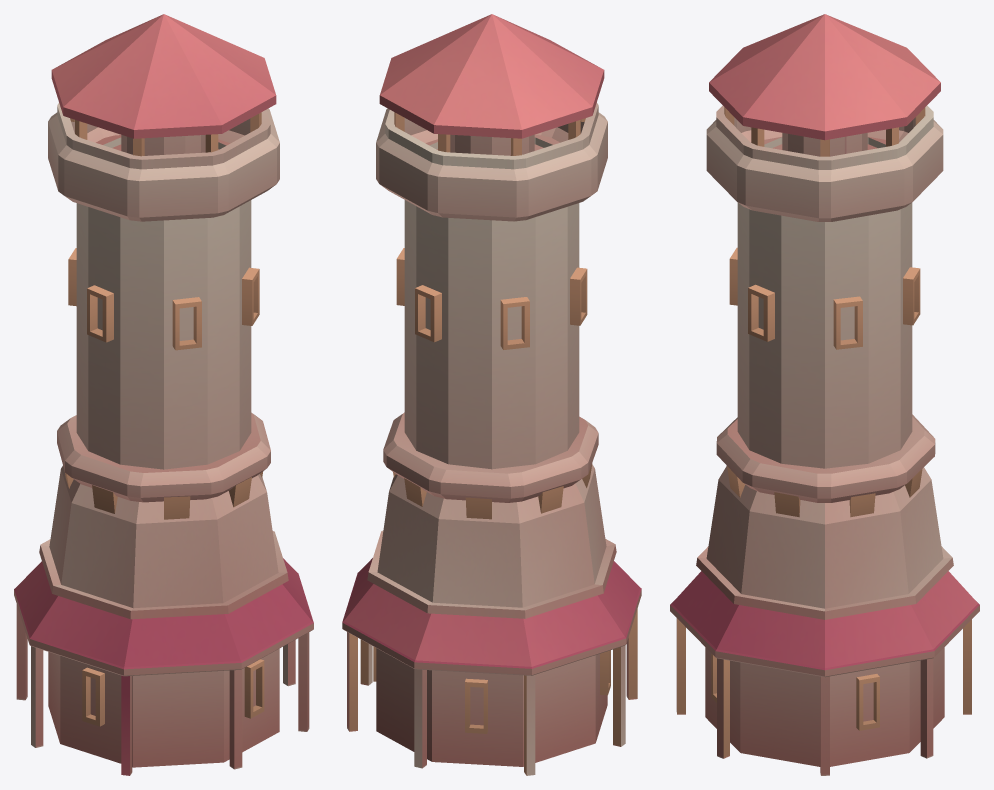
Rendered from Lighthouse.fbx.
3 views of the same model, side by side, from view 1: azimuth 30°, elevation 25°; view 2: azimuth 150°, elevation 25°; view 3: azimuth 270°, elevation 25° (orthographic).
Visible parts, largest first — view 1: Lighthouse; view 2: Lighthouse; view 3: Lighthouse.
Boxes of the visible parts, left/top/right/bottom form: Lighthouse: left=14, top=14, right=313, bottom=775; Lighthouse: left=342, top=14, right=641, bottom=775; Lighthouse: left=670, top=14, right=979, bottom=775.
Size of the model in its own units: 1060 by 2656 by 1060.
Materials: 1 (1 with a texture image).
